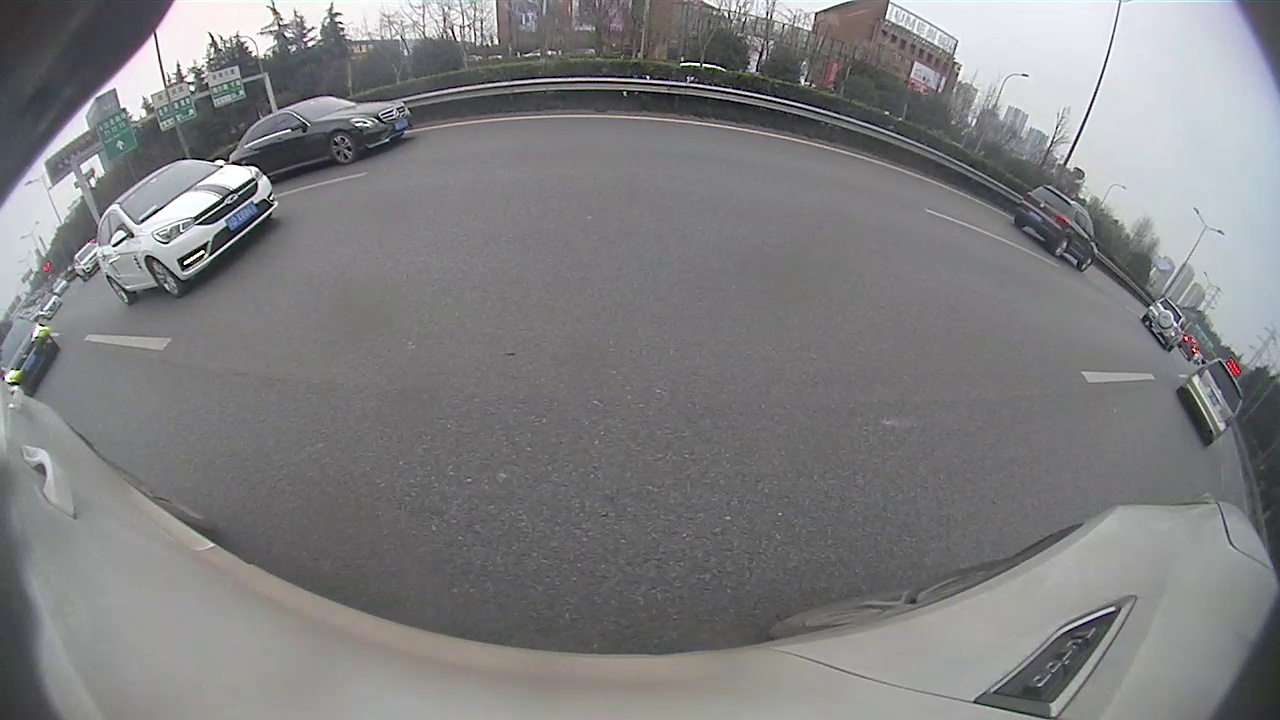car: (86, 154, 280, 306), (226, 94, 411, 176), (1018, 177, 1099, 275), (1180, 350, 1246, 447), (2, 319, 60, 402), (1145, 291, 1186, 356)
front: (148, 257, 187, 300), (327, 130, 358, 167), (1077, 254, 1095, 273)
rear: (107, 275, 139, 306), (1051, 238, 1069, 259)
